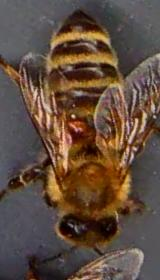varroa_mite: (62, 113, 93, 134)
